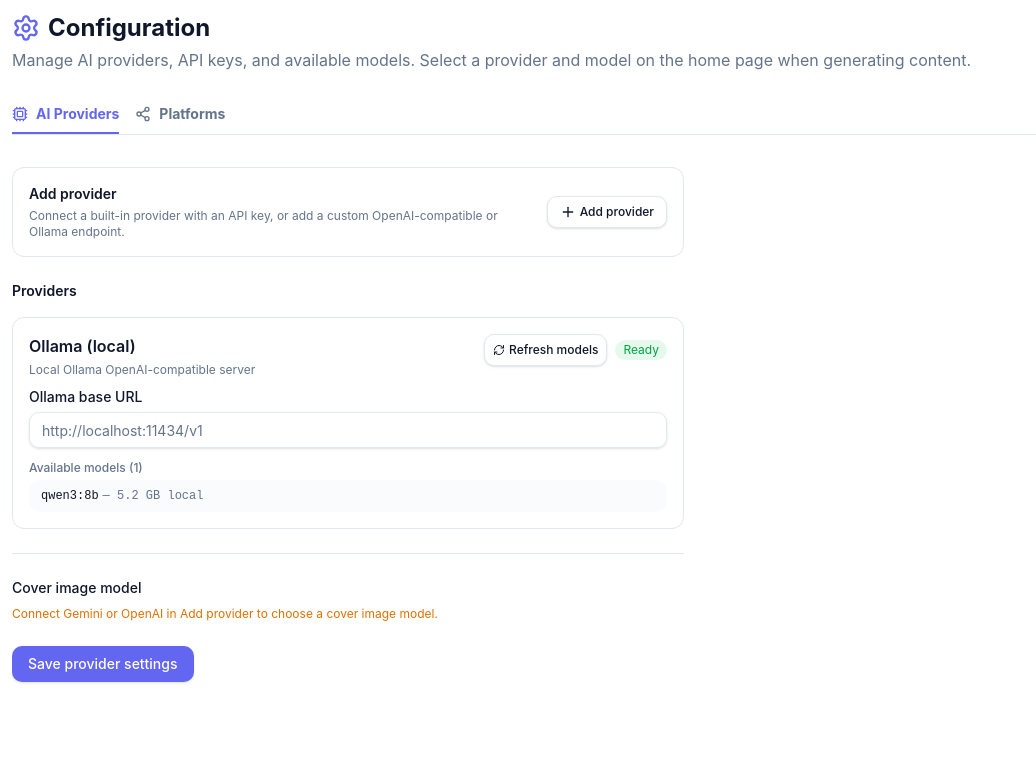
Scenario: SettingsPage › displays API error when save fails
This screenshot has width=1036, height=780.
Click the button "Save provider settings".
click(103, 664)  # box [12, 646, 194, 682]
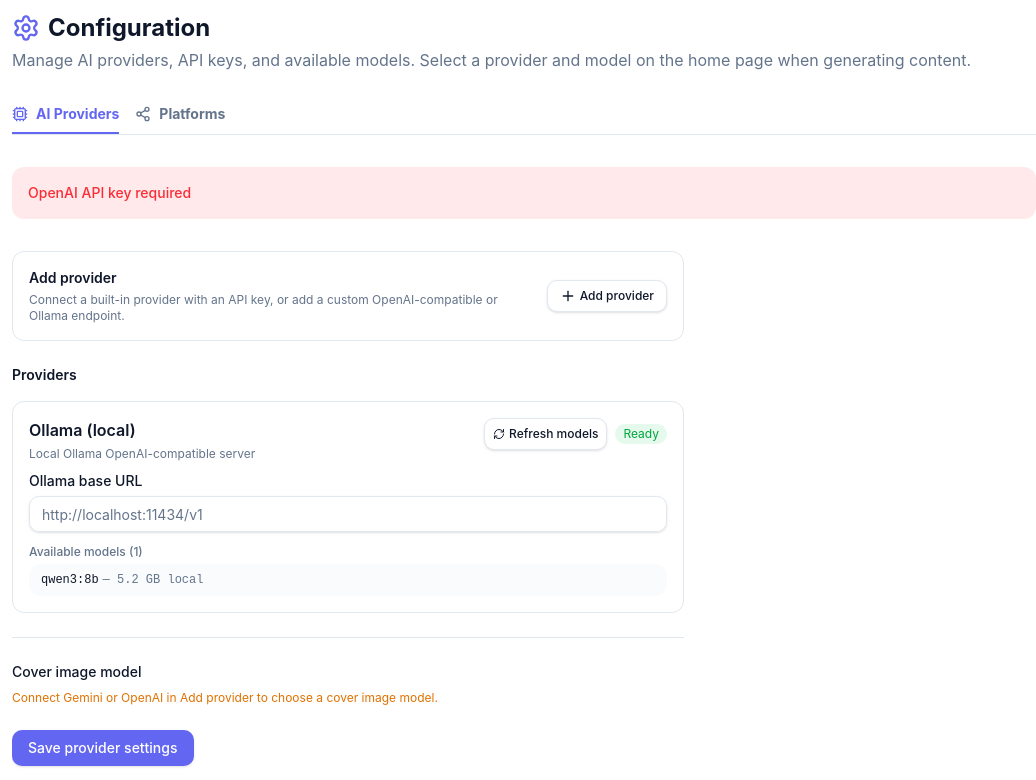
Expected: the text "OpenAI API key required" is shown, [12, 167, 1035, 219]
